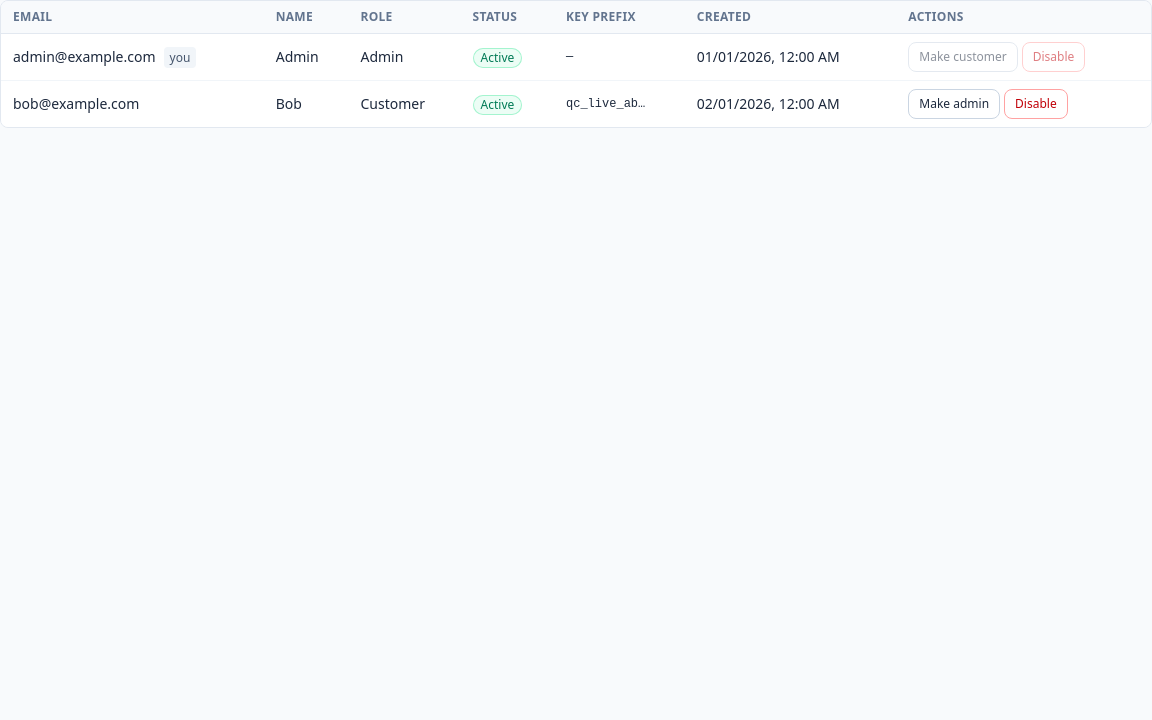
admin UsersTable › toggles the role after an inline confirm and reports the updated user
Click the button "Make admin".
click(954, 104)  # box [908,89,1000,119]
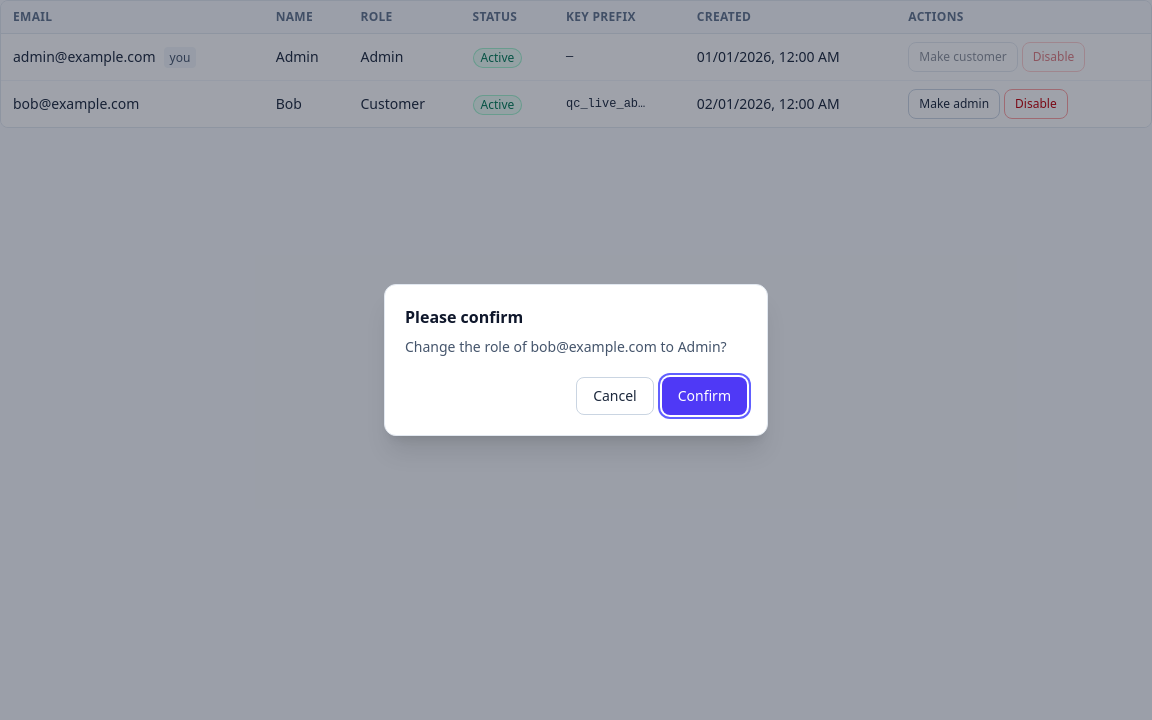
Check: the dialog shows "Change the role of bob@example.com to Admin?", box [405,337,727,356]
Click the button "Confirm".
click(704, 396)  # box [662,377,747,415]
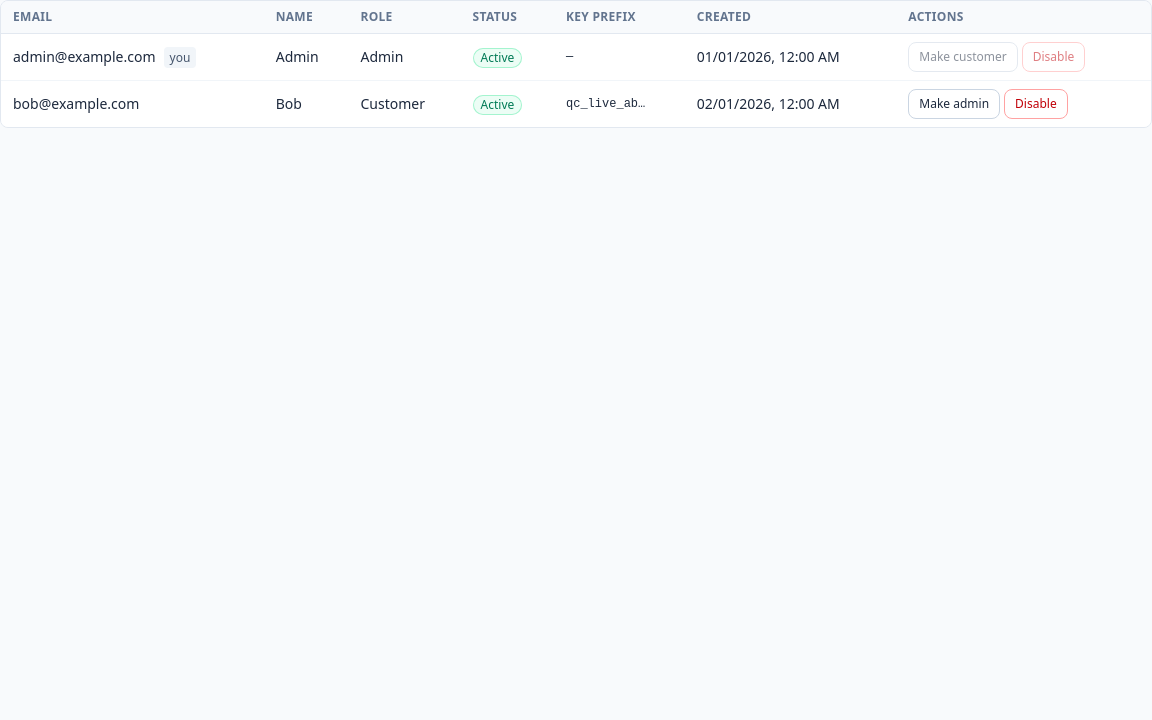
Check: the dialog is gone
